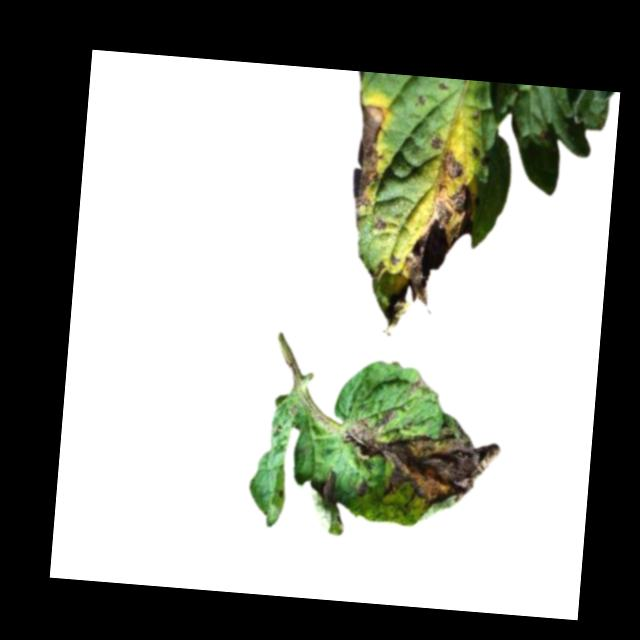Early_blight: (338, 407, 506, 511), (384, 177, 480, 343), (351, 103, 387, 209), (439, 151, 467, 181), (317, 470, 338, 509), (409, 374, 428, 398), (369, 259, 387, 284), (429, 136, 444, 150), (469, 146, 482, 160), (373, 218, 385, 233)
